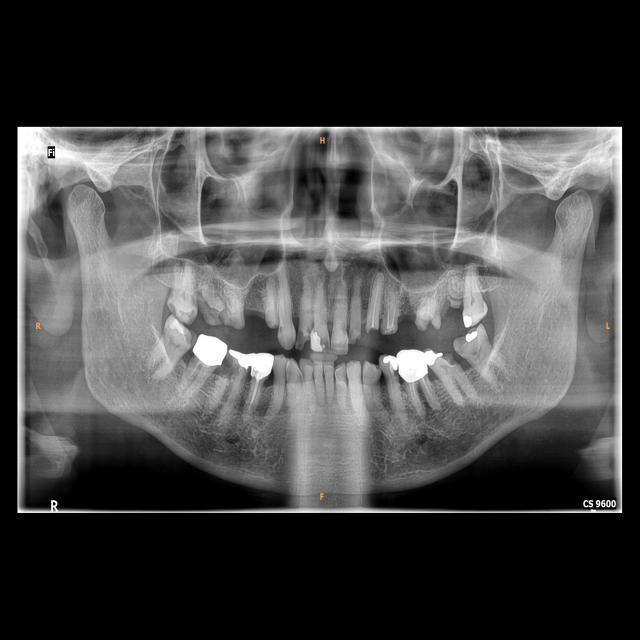dentin-curugu: (196, 290, 234, 332), (433, 350, 465, 380), (221, 352, 243, 386), (417, 309, 443, 336), (294, 324, 312, 354), (363, 320, 384, 342), (344, 326, 365, 348), (164, 298, 187, 318)
dolgu: (219, 349, 253, 372), (380, 352, 403, 378), (310, 329, 328, 354), (424, 345, 442, 369), (463, 328, 482, 350), (462, 308, 476, 329)
kanal-tedavisi: (407, 378, 433, 411), (369, 281, 382, 327), (248, 375, 262, 417), (383, 302, 397, 330)
kaplama: (188, 332, 227, 366), (392, 347, 428, 381), (249, 345, 275, 383)
